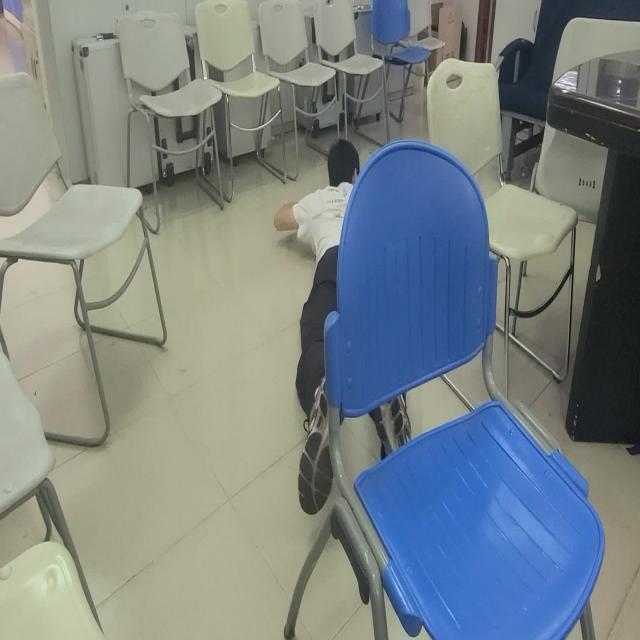Fall-Detected: (272, 141, 414, 517)
